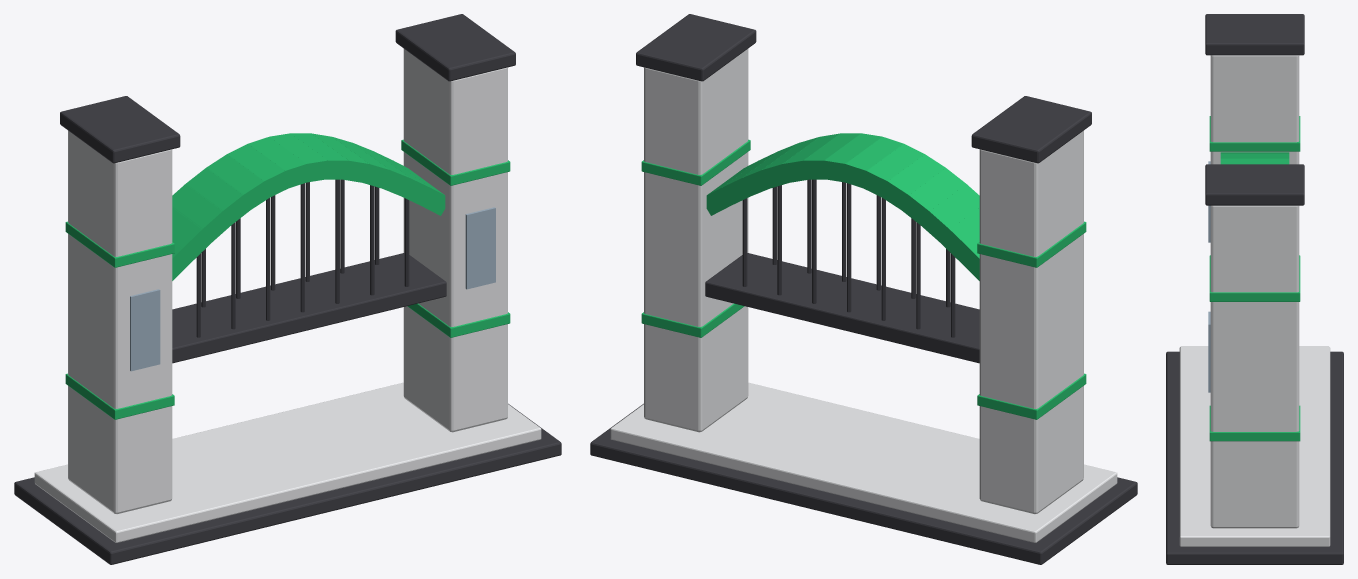
File: bridge-gate.glb
The picture shows the model from 3 angles, left to right: view 1: azimuth 30°, elevation 25°; view 2: azimuth 150°, elevation 25°; view 3: azimuth 270°, elevation 25°; orthographic projection. The views are drawn at different scales.
Visible parts, largest first — view 1: bridge_gate; view 2: bridge_gate; view 3: bridge_gate.
Part boxes in pixels (<box>): bridge_gate: <box>14,14,561,564</box>; bridge_gate: <box>590,14,1137,564</box>; bridge_gate: <box>1166,14,1343,564</box>.
Size of the model in its own units: 14 by 11.65 by 5.2.
